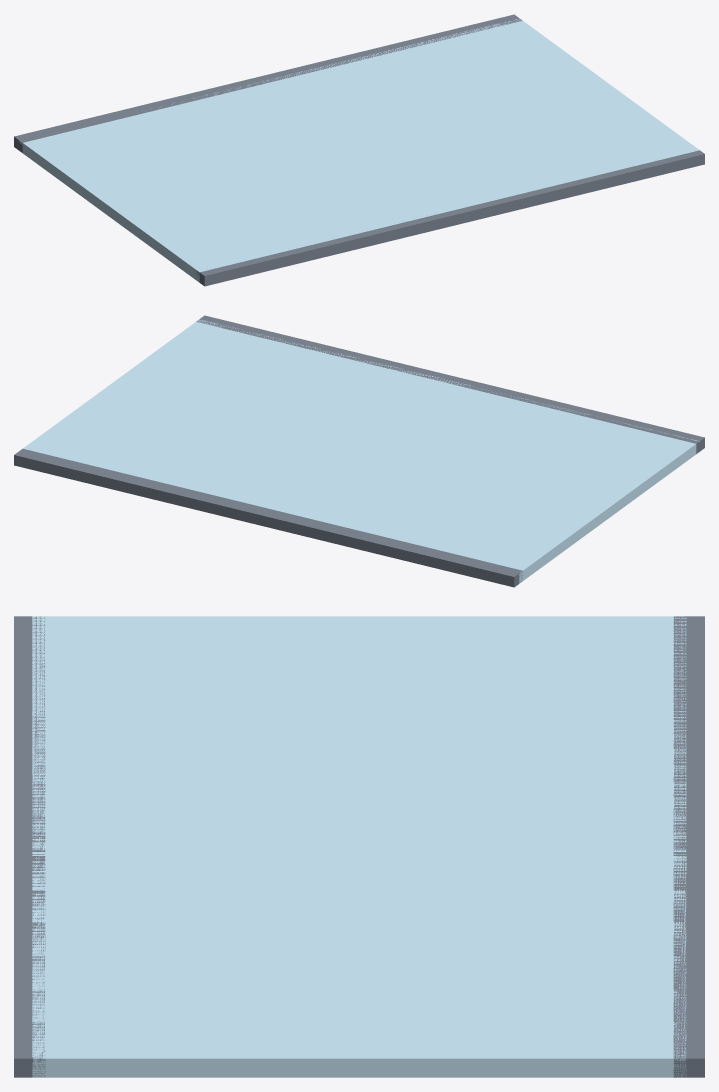
Rendered from office_wall_glass.glb.
3 renders of one model, top to bottom at view 1: azimuth 30°, elevation 25°; view 2: azimuth 150°, elevation 25°; view 3: azimuth 270°, elevation 25°, orthographic. The views are drawn at different scales.
Visible parts, largest first — view 1: pane_1, top_2, base_0; view 2: pane_1, base_0, top_2; view 3: pane_1, base_0, top_2.
Boxes of the visible parts, bbox=[...] form: pane_1: bbox=[19, 18, 699, 282]; top_2: bbox=[196, 150, 704, 286]; base_0: bbox=[14, 14, 521, 152]; pane_1: bbox=[23, 319, 699, 583]; base_0: bbox=[14, 448, 522, 587]; top_2: bbox=[196, 315, 704, 453]; pane_1: bbox=[32, 616, 686, 1077]; base_0: bbox=[673, 616, 704, 1077]; top_2: bbox=[14, 616, 45, 1077].
Size of the model in its own units: 4 by 0.08 by 2.64.
